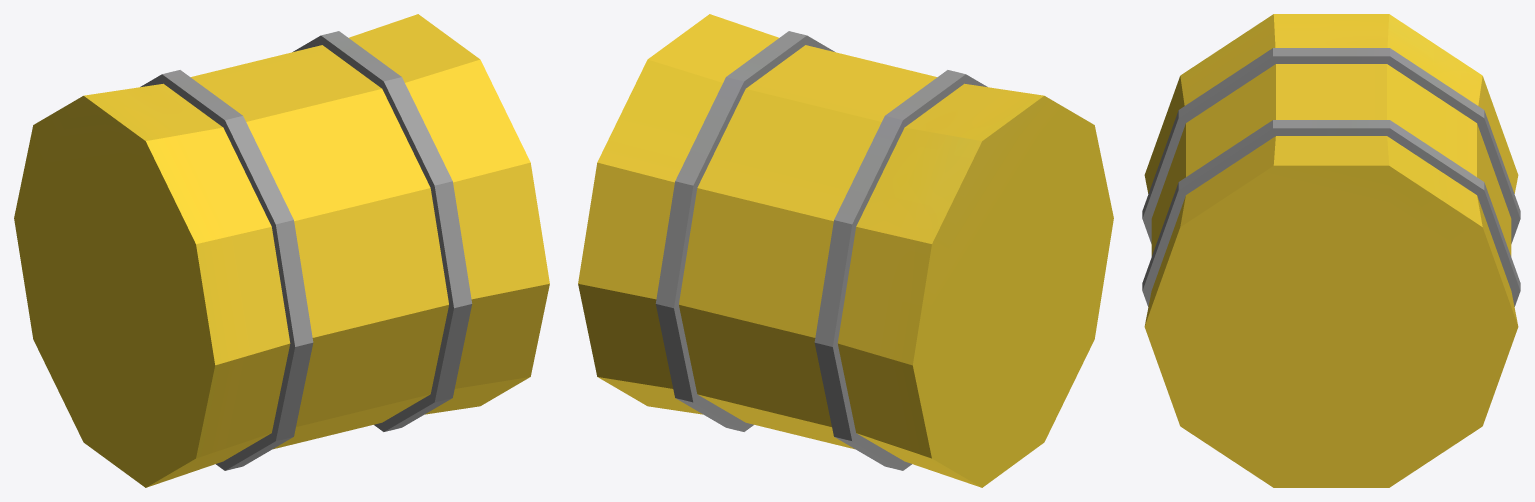
Rendered from small_haybale.glb.
3 renders of one model, left to right at view 1: azimuth 30°, elevation 25°; view 2: azimuth 150°, elevation 25°; view 3: azimuth 270°, elevation 25°, orthographic. The views are drawn at different scales.
Visible parts, largest first — view 1: rock02_Mesh_007_Base_0.2439; view 2: rock02_Mesh_007_Base_0.2439; view 3: rock02_Mesh_007_Base_0.2439.
Boxes of the visible parts, x1,y1,x2,y2 form: rock02_Mesh_007_Base_0.2439: [14, 14, 549, 487]; rock02_Mesh_007_Base_0.2439: [578, 14, 1113, 487]; rock02_Mesh_007_Base_0.2439: [1142, 14, 1520, 487].
Bounding box in the file's own units: 1.01 × 1.01 × 1.06.
1 material, 1 textured.
